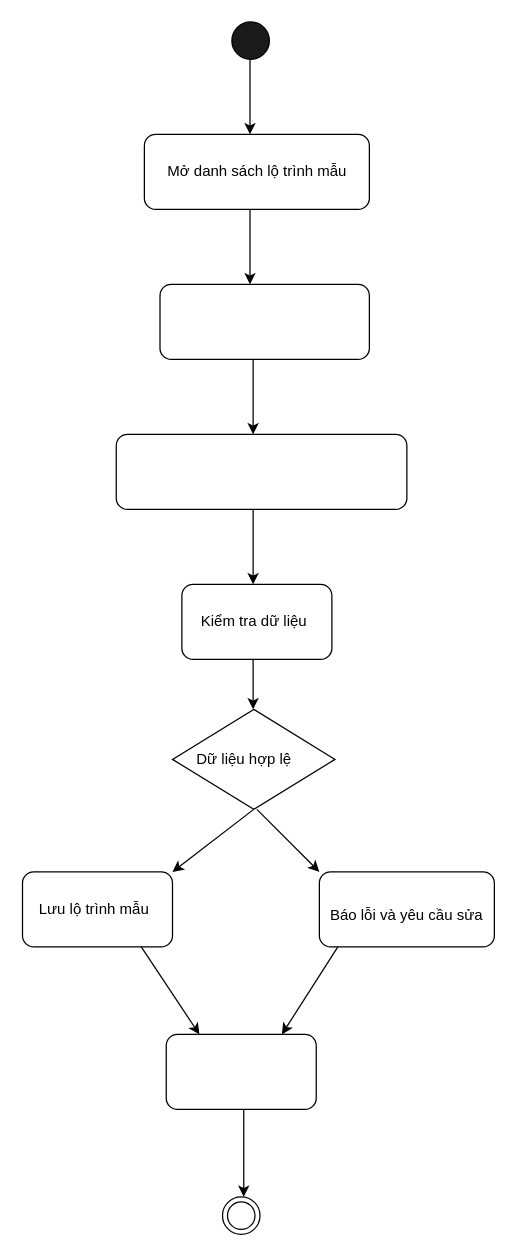
The diagram is 516 pixels wide and 1256 high, and some of its shapes have lost their labels. Each missing label, with the box of its shape:
Chọn tạo mới/chỉnh sửa: (159, 283, 369, 359)
Nhập Thông tin và chọn POI: (115, 433, 407, 509)
Thông báo kết quả: (165, 1033, 316, 1109)
